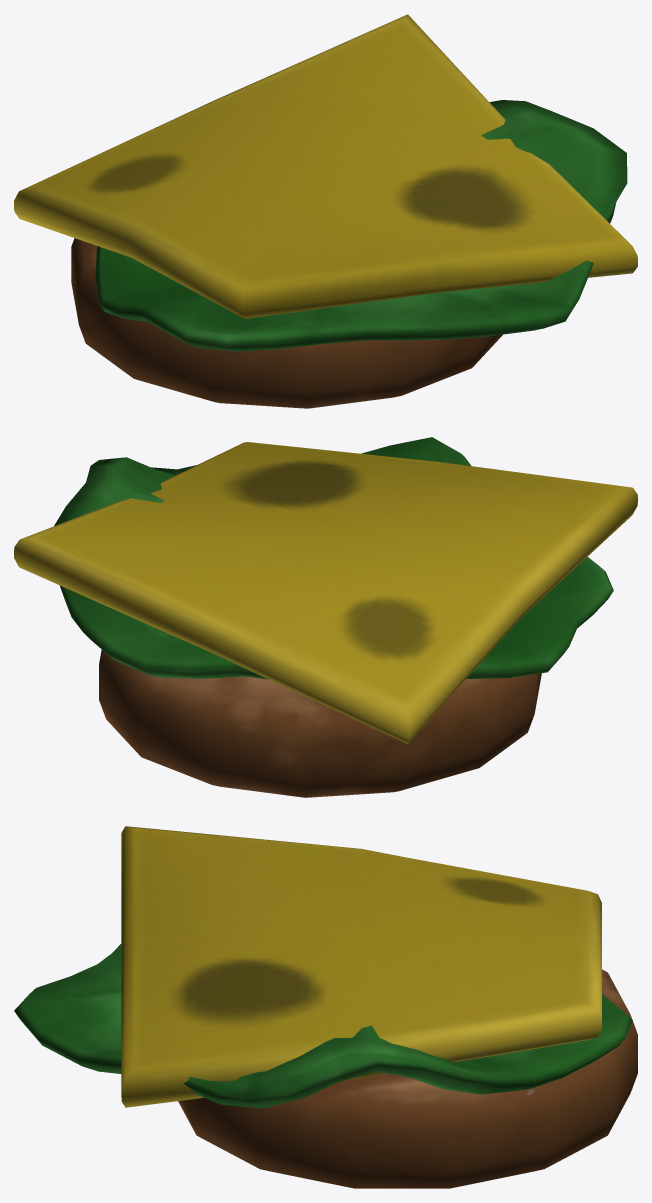
Rendered from MSH_C_L_Q.fbx.
The picture shows the model from 3 angles, top to bottom: view 1: azimuth 30°, elevation 25°; view 2: azimuth 150°, elevation 25°; view 3: azimuth 270°, elevation 25°; orthographic projection. The views are drawn at different scales.
Visible parts, largest first — view 1: MSH_C_L_Q; view 2: MSH_C_L_Q; view 3: MSH_C_L_Q.
Boxes of the visible parts, x1=… form: MSH_C_L_Q: x1=14, y1=14, x2=637, y2=408; MSH_C_L_Q: x1=14, y1=437, x2=637, y2=797; MSH_C_L_Q: x1=14, y1=826, x2=637, y2=1188.
Bounding box in the file's own units: 16.25 × 17 × 6.07.
Materials: 1 (1 with a texture image).
